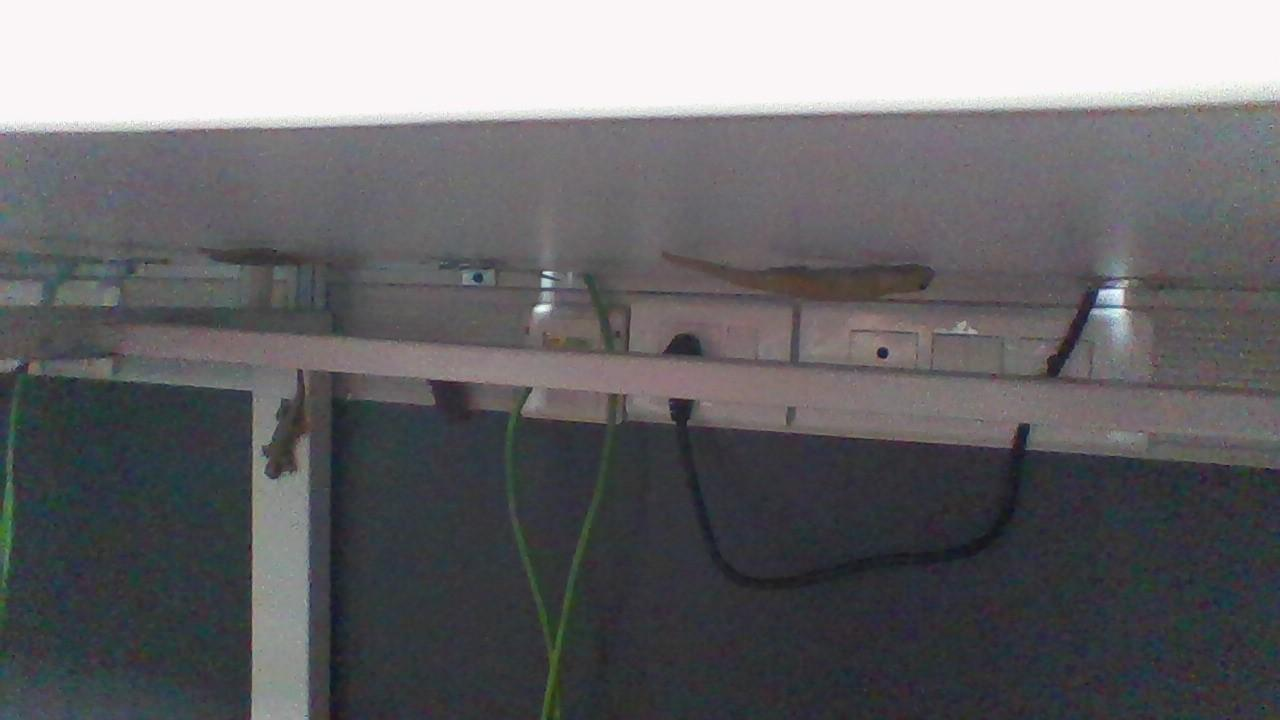cockroach: (415, 373, 480, 434), (187, 242, 302, 272)
lizard: (653, 230, 940, 321), (256, 373, 321, 484)
